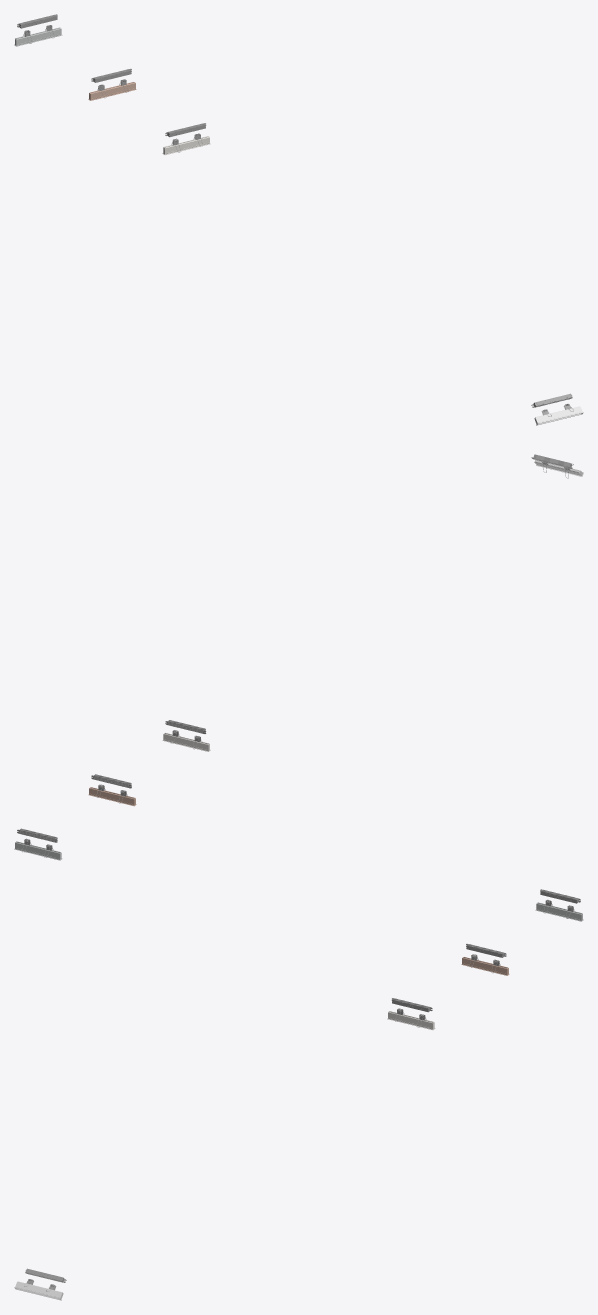
The model's file is Grid-microborda-12-focos.glb.
The picture shows the model from 3 angles, top to bottom: view 1: azimuth 30°, elevation 25°; view 2: azimuth 150°, elevation 25°; view 3: azimuth 330°, elevation 25°; orthographic projection.
Size of what is drawn, in the model's own units: 0.2318 by 0.1014 by 4.59.
